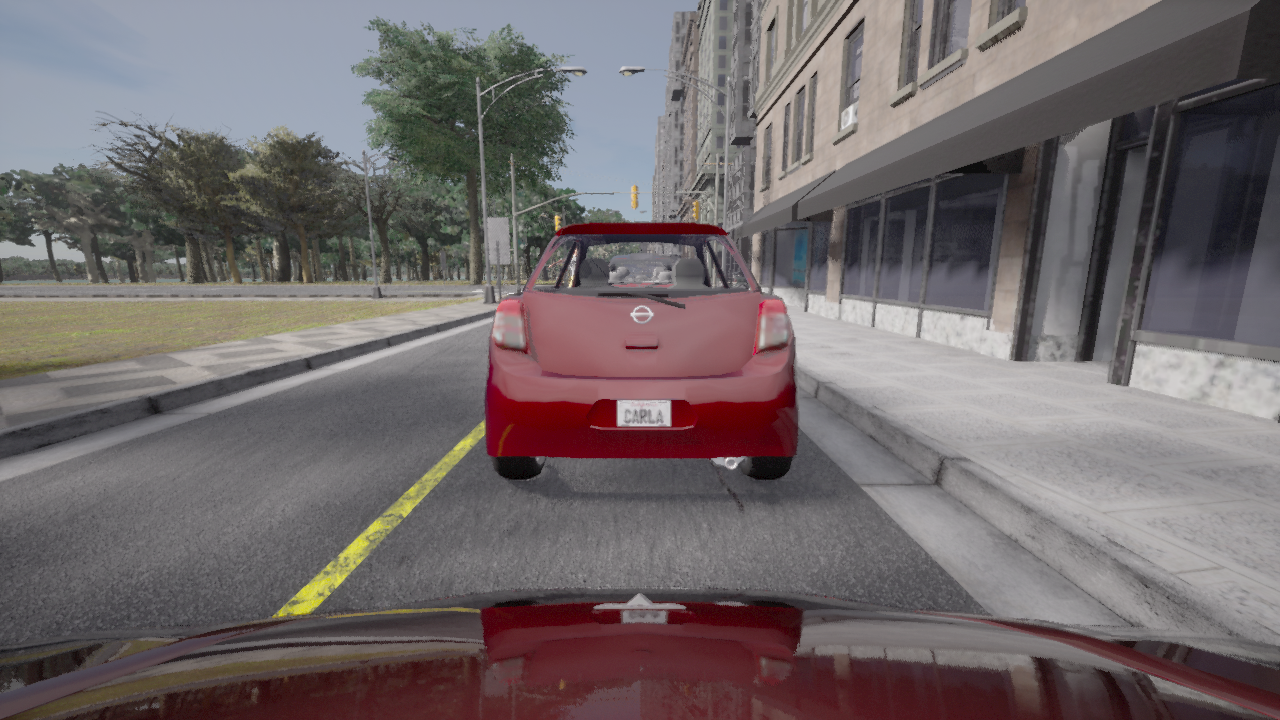cyclist: (0, 588, 1279, 719), (485, 222, 799, 479)
